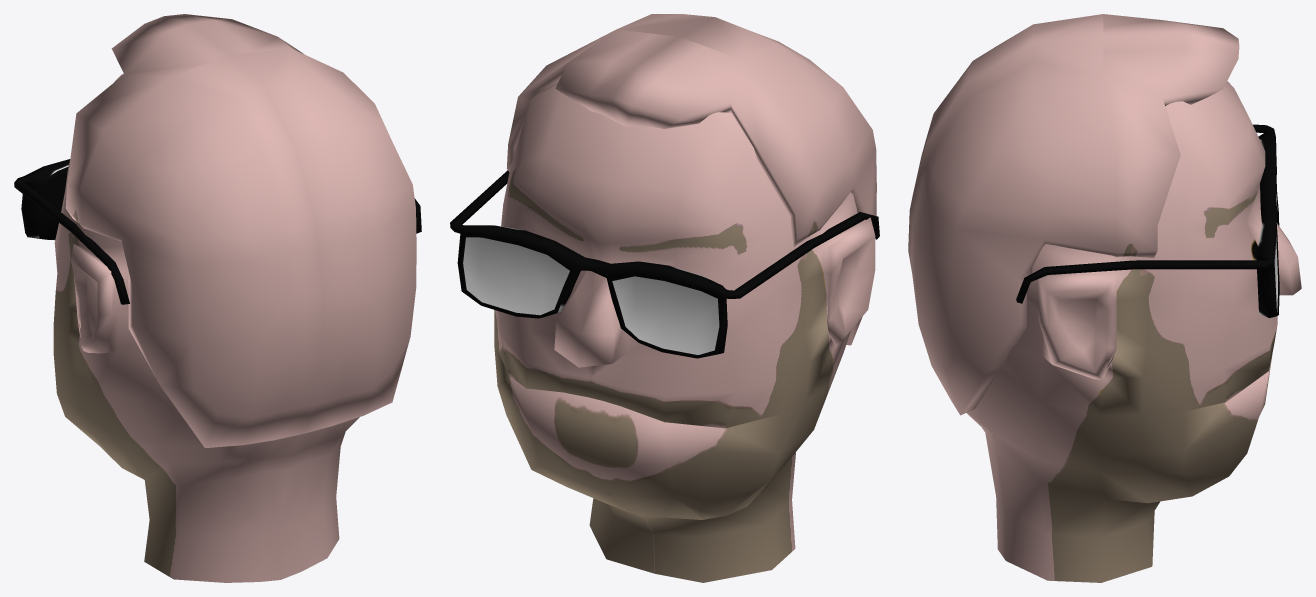
The model's file is BradHeadImport.fbx.
3 renders of one model, left to right at view 1: azimuth 30°, elevation 25°; view 2: azimuth 150°, elevation 25°; view 3: azimuth 270°, elevation 25°, orthographic. The views are drawn at different scales.
Parts seen in each view (by area): view 1: Hair, Head, Glasses; view 2: Head, Hair, Glasses; view 3: Head, Hair, Glasses.
Boxes of the visible parts, bbox=[...] form: Hair: bbox=[65, 14, 416, 447]; Head: bbox=[53, 73, 359, 582]; Glasses: bbox=[14, 159, 421, 304]; Head: bbox=[494, 82, 875, 582]; Hair: bbox=[507, 14, 876, 345]; Glasses: bbox=[450, 170, 879, 358]; Head: bbox=[966, 81, 1301, 582]; Hair: bbox=[908, 14, 1239, 415]; Glasses: bbox=[1016, 124, 1279, 317].
Bounding box in the file's own units: 81.43 × 121 × 84.36.
4 materials, 4 textured.
